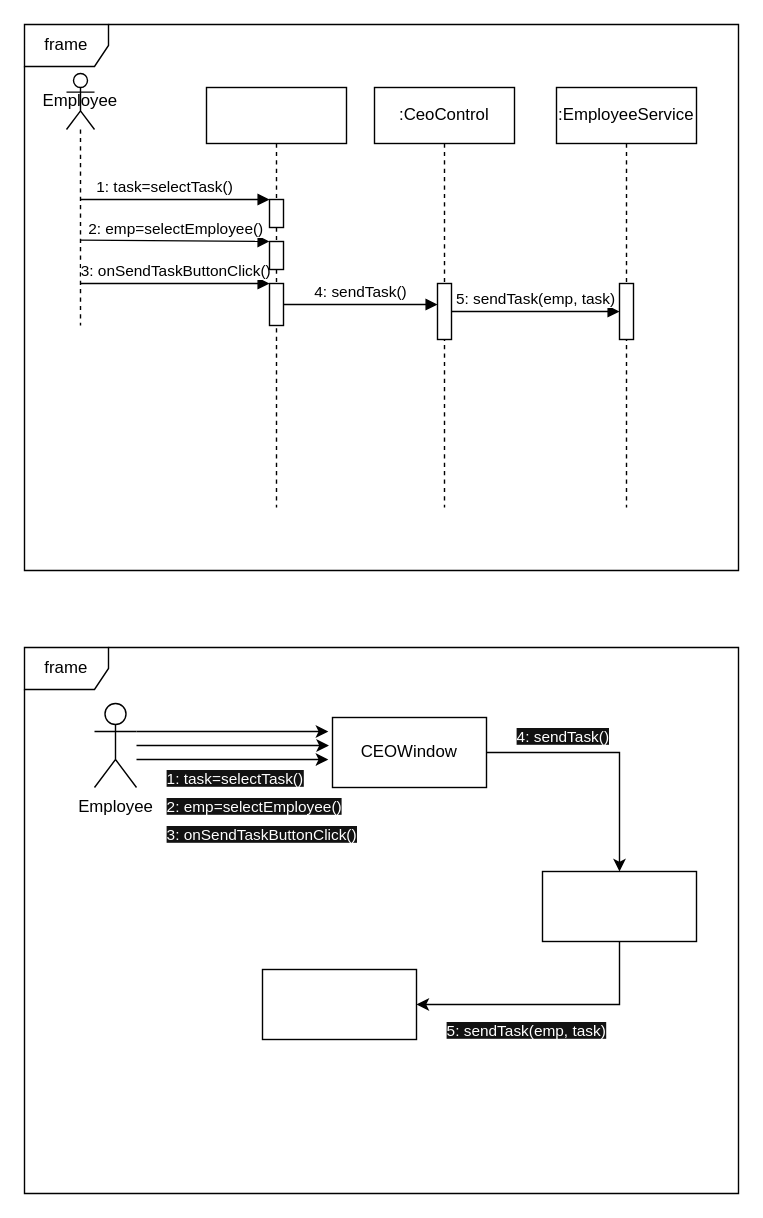
Image size: 763x1218. Some labels were removed from this diagram. Here are the shapes that lost their labels. From the top down, the centre of each, then its label:
[275,296]: :CeoWindow
[618,905]: CEOControl
[338,1004]: EmployeeService
